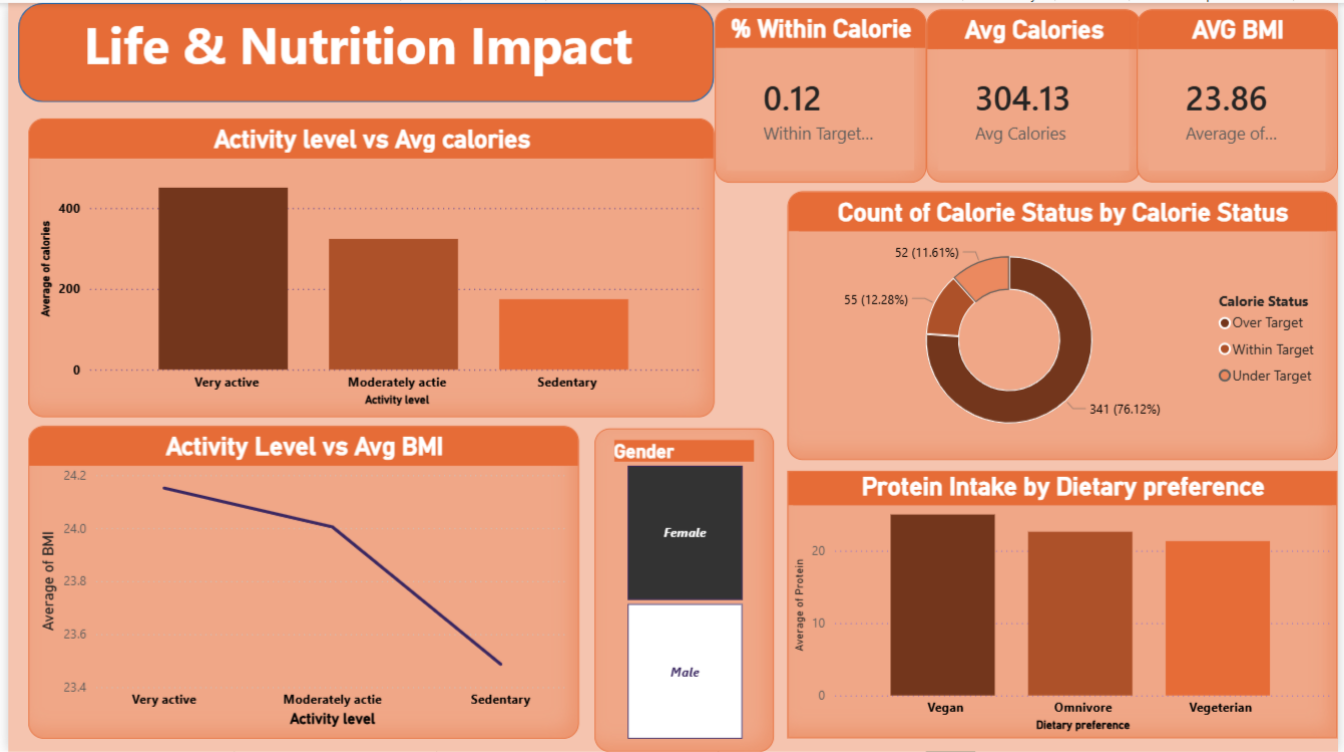

The dashboard page shown, as its layout file describes it:
{"tool":"powerbi","page":{"name":"Life & Nutrition Impact","canvas":[1280,720],"ordinal":3},"visuals":[{"type":"shape","box":[9.8,0,670.1,95.4],"z":0},{"type":"cardVisual","title":"Avg Calories","fields":{"Data":["Restaurants.Avg Calories"]},"box":[884.1,6.1,206.7,166.3],"z":1000},{"type":"cardVisual","title":"AVG BMI","fields":{"Data":["Avg(Restaurants.BMI)"]},"box":[1087.1,6.1,193.2,166.3],"z":2000},{"type":"clusteredColumnChart","title":" Activity level vs Avg calories","fields":{"Category":["Restaurants.Activity level"],"Y":["Avg(Restaurants.calories)"]},"box":[19.3,111,661.1,287.1],"z":3000},{"type":"slicer","fields":{"Values":["Restaurants.Gender"]},"box":[564.6,409,172.5,311.3],"z":4000},{"type":"clusteredColumnChart","title":"Protein Intake by Dietary preference","fields":{"Category":["Restaurants.Dietary preference"],"Y":["Avg(Restaurants.Protein)"]},"box":[750.4,450,529.6,257],"z":5000},{"type":"lineChart","title":"Activity Level vs Avg BMI","fields":{"Category":["Restaurants.Activity level"],"Y":["Avg(Restaurants.BMI)"]},"box":[19.6,406,530.7,300.8],"z":6000},{"type":"donutChart","fields":{"Category":["Restaurants.Calorie Status"],"Y":["CountNonNull(Restaurants.Calorie Status)"]},"box":[750.4,181,529.6,258.2],"z":7000},{"type":"cardVisual","title":"% Within Calorie ","fields":{"Data":["Restaurants.Within Target %"]},"box":[680.4,4.8,203.9,167.7],"z":8000},{"type":"textbox","box":[67.3,2.4,599.2,84.4],"z":9000}]}

Visuals, with their boxes in screenshot pixels (x1, y1, x2, y2), scaled from the page's 1280x720 canvas onto the 1344x752 screenshot:
shape: [10,0,714,100]
"Avg Calories" cardVisual: [928,6,1145,180]
"AVG BMI" cardVisual: [1141,6,1343,180]
" Activity level vs Avg calories" clusteredColumnChart: [20,116,714,416]
slicer - Restaurants.Gender: [593,427,774,751]
"Protein Intake by Dietary preference" clusteredColumnChart: [788,470,1343,738]
"Activity Level vs Avg BMI" lineChart: [21,424,578,738]
donutChart - Restaurants.Calorie Status x CountNonNull(Restaurants.Calorie Status): [788,189,1343,459]
"% Within Calorie " cardVisual: [714,5,929,180]
textbox: [71,3,700,91]
